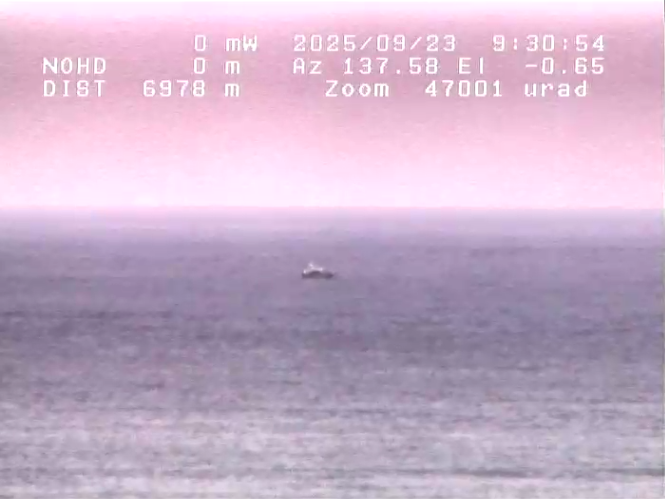TUGS: (292, 258, 341, 278)
